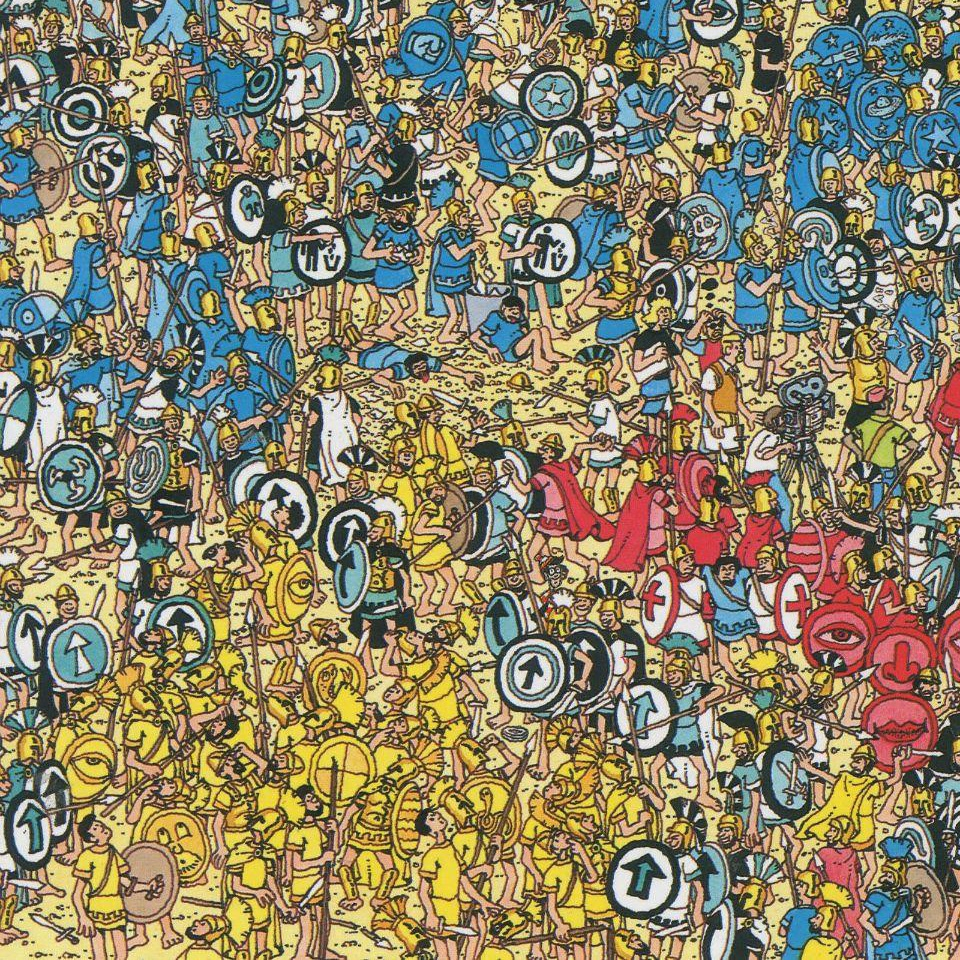waldo: (534, 550, 564, 588)
